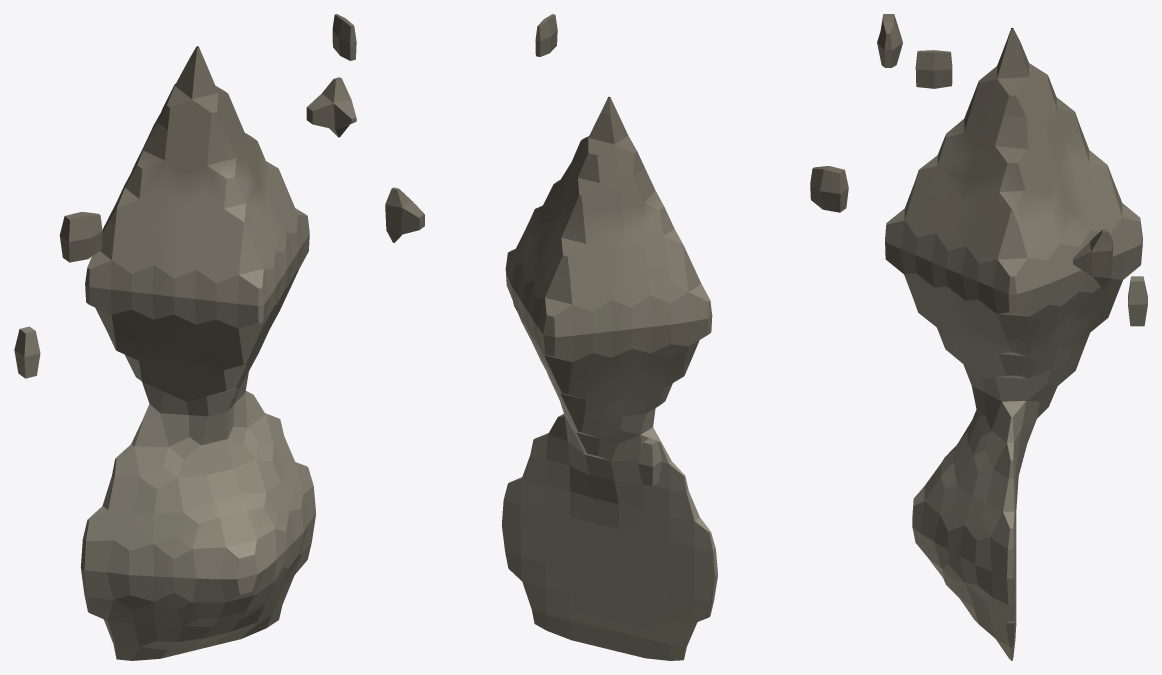
File: darkElemental.glb
3 renders of one model, left to right at view 1: azimuth 30°, elevation 25°; view 2: azimuth 150°, elevation 25°; view 3: azimuth 270°, elevation 25°, orthographic. The views are drawn at different scales.
Parts seen in each view (by area): view 1: geometry_0; view 2: geometry_0; view 3: geometry_0.
Boxes of the visible parts, x1,y1,x2,y2 form: geometry_0: [14, 14, 356, 660]; geometry_0: [385, 14, 848, 660]; geometry_0: [877, 14, 1147, 660].
Size of the model in its own units: 0.6023 by 0.9325 by 0.3635.
Materials: 1 (1 with a texture image).
